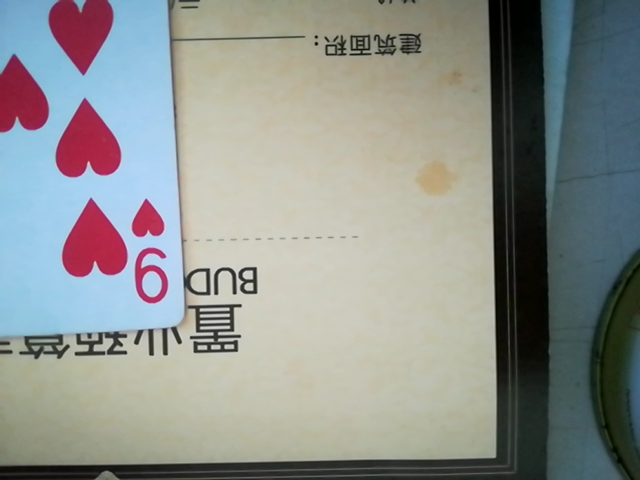hx 9: (0, 0, 193, 352)
